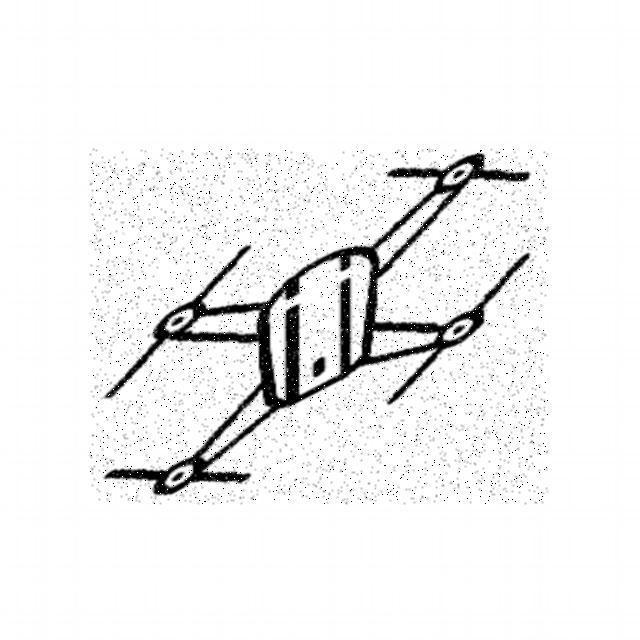drone: (91, 150, 549, 505)
